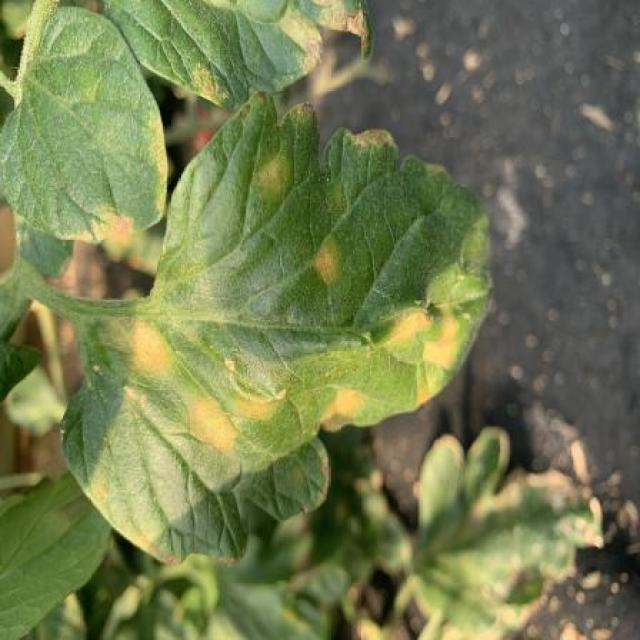Leaf Mold: (65, 84, 494, 570), (0, 3, 170, 248)
